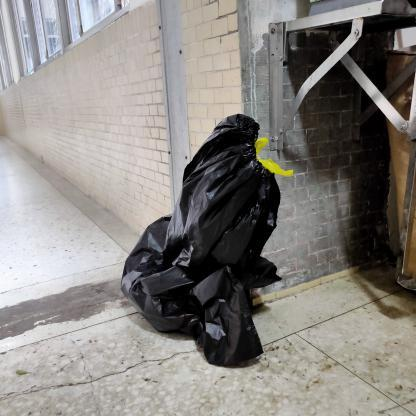black_bag: (121, 113, 294, 369)
